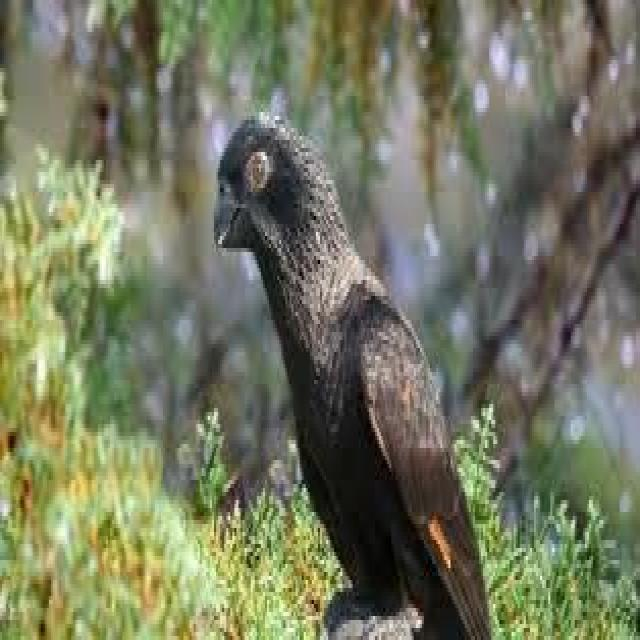Nuri Hitam: (200, 100, 508, 640)
